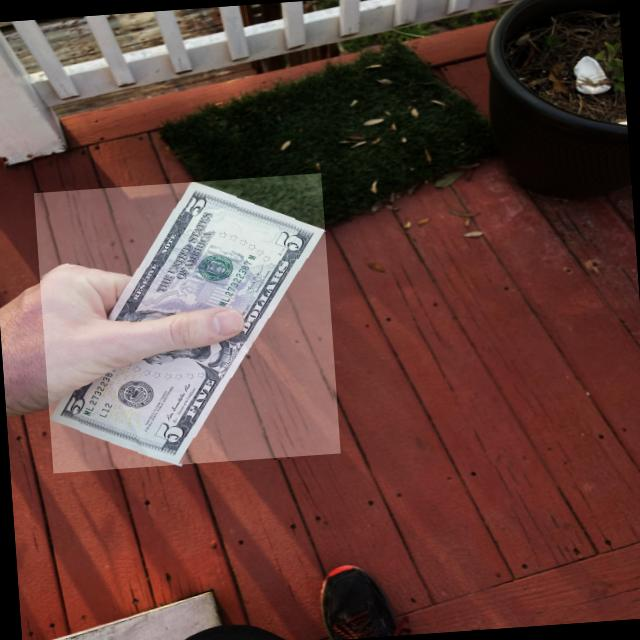five: (44, 157, 326, 491)
